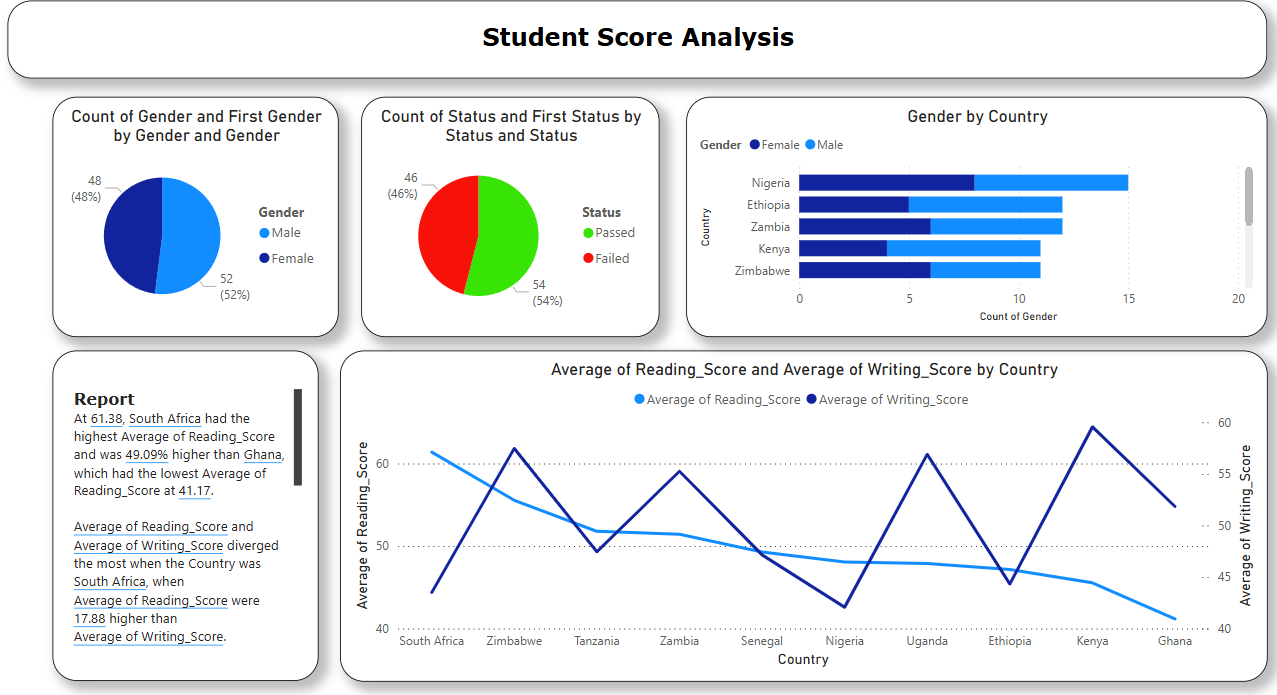

What the dashboard file says about the page in this screenshot:
{"tool":"powerbi","page":{"name":"Page 1","canvas":[1280,720],"ordinal":0},"visuals":[{"type":"pieChart","fields":{"Category":["updated_student_scores.Gender"],"Series":["updated_student_scores.Gender"],"Y":["CountNonNull(updated_student_scores.Gender)"]},"box":[57.8,107.7,285.1,239.3],"z":0},{"type":"pieChart","fields":{"Category":["updated_student_scores.Status"],"Y":["CountNonNull(updated_student_scores.Status)"],"Series":["updated_student_scores.Status"]},"box":[364.9,107.7,297.1,239.3],"z":1000},{"type":"lineChart","fields":{"Y":["Avg(updated_student_scores.Reading_Score)"],"Category":["updated_student_scores.Country"],"Y2":["Avg(updated_student_scores.Writing_Score)"]},"box":[343.3,360.7,923,329.6],"z":2000},{"type":"barChart","title":"Gender by Country","fields":{"Category":["updated_student_scores.Country"],"Y":["CountNonNull(updated_student_scores.Gender)"],"Series":["updated_student_scores.Gender"]},"box":[687.9,108.2,578.4,238.8],"z":3000},{"type":"textbox","box":[57.8,360.9,265.2,329],"z":4000},{"type":"textbox","box":[73.8,394.8,237.3,277.1],"z":5000},{"type":"shape","title":"Student Score Analysis","box":[13,13,1253.8,77.9],"z":6000}]}

Visuals, with their boxes on the page's 1280x720 design canvas (x1, y1, x2, y2). These are canvas units, not pixel positions in the 1277x695 screenshot, which may show the page scaled, cropped or inside an application window:
pieChart - updated_student_scores.Gender x updated_student_scores.Gender: (x1=58, y1=108, x2=343, y2=347)
pieChart - updated_student_scores.Status x CountNonNull(updated_student_scores.Status): (x1=365, y1=108, x2=662, y2=347)
lineChart - Avg(updated_student_scores.Reading_Score) x updated_student_scores.Country: (x1=343, y1=361, x2=1266, y2=690)
"Gender by Country" barChart: (x1=688, y1=108, x2=1266, y2=347)
textbox: (x1=58, y1=361, x2=323, y2=690)
textbox: (x1=74, y1=395, x2=311, y2=672)
"Student Score Analysis" shape: (x1=13, y1=13, x2=1267, y2=91)
